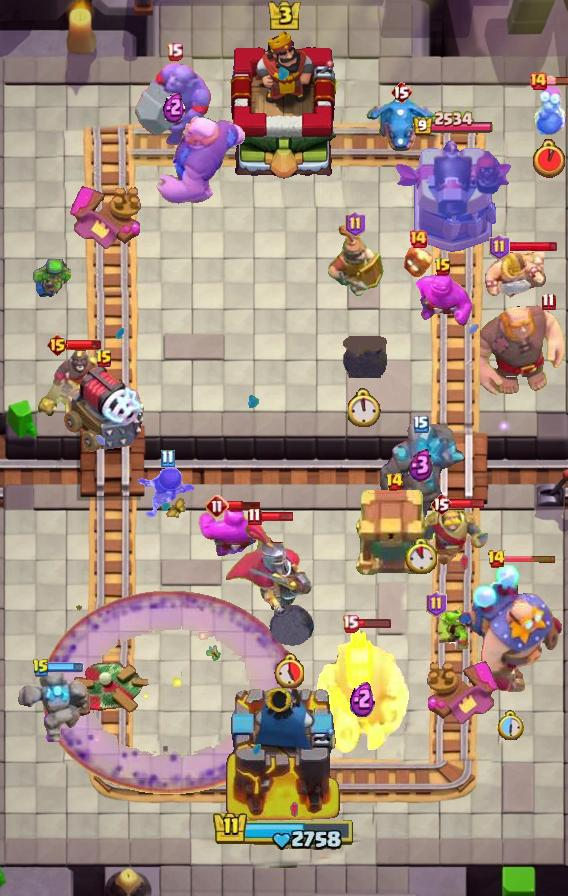archer-queen: (133, 60, 215, 148)
baby-dragon: (264, 586, 315, 648), (343, 336, 387, 378)
balloon: (154, 114, 248, 206), (480, 301, 568, 399)
bomb: (355, 489, 433, 577)
bomber: (402, 245, 434, 279)
cannoneer-tower: (376, 422, 466, 524)
clock: (212, 810, 356, 852)
earthquake: (326, 225, 384, 297)
electro-spirit: (350, 679, 375, 717), (408, 448, 434, 482), (163, 90, 185, 123)
elixir: (348, 388, 382, 427), (533, 138, 565, 177), (405, 538, 437, 574), (274, 653, 304, 687), (496, 711, 524, 742)
emote: (507, 240, 558, 253), (503, 553, 557, 563), (66, 339, 102, 351), (451, 498, 486, 510), (226, 500, 262, 511), (356, 619, 392, 630), (48, 663, 84, 674), (258, 511, 293, 522), (544, 75, 567, 86)
firecracker: (420, 507, 489, 564)
freeze: (34, 348, 106, 426)
giant-skeleton: (314, 628, 410, 756)
giant-snowball: (29, 259, 71, 299)
goblin-ball: (137, 464, 197, 520)
goblin-giant: (481, 252, 547, 302)
golem: (61, 364, 147, 454)
graveyard: (365, 92, 437, 154)
ice-golem: (531, 85, 567, 137)
king-tower: (222, 31, 346, 181), (223, 680, 345, 826)
little-prince: (456, 562, 564, 696)
rocket: (41, 590, 297, 794)
selected: (412, 111, 494, 137)
text: (205, 494, 229, 518), (47, 333, 70, 357), (346, 211, 367, 237), (490, 234, 511, 260), (426, 591, 447, 617), (390, 80, 412, 104), (430, 492, 452, 516), (528, 71, 548, 91), (408, 229, 428, 249), (384, 472, 404, 492), (486, 549, 505, 569), (434, 257, 452, 277), (95, 349, 113, 369), (32, 658, 50, 678), (165, 43, 183, 62), (341, 615, 359, 634), (413, 415, 429, 433), (541, 293, 556, 312), (161, 449, 176, 468), (247, 507, 261, 525)
tornado: (198, 506, 266, 558), (411, 274, 475, 328)
tower-bar: (392, 138, 514, 256)
valkyrie-evolution: (14, 670, 90, 748)
wall-breaker-evolution: (221, 520, 313, 620)
zap: (430, 607, 472, 651)
